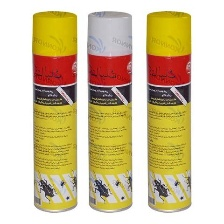aerosol_cans: (85, 8, 137, 215), (143, 6, 194, 216), (30, 7, 80, 214)
